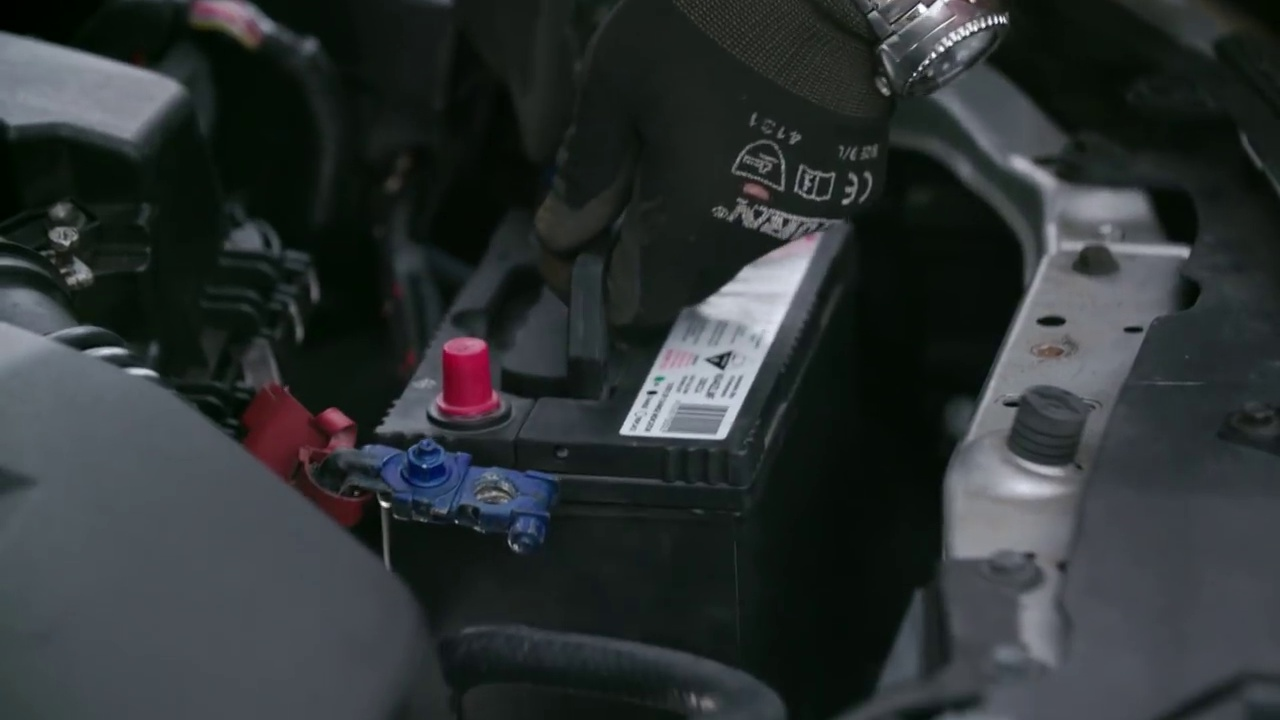battery: (384, 194, 846, 497)
